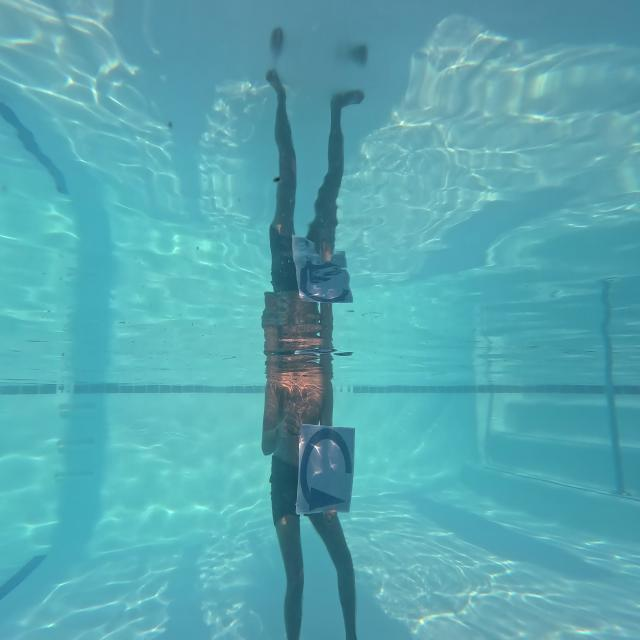blue_side: (294, 404, 358, 520)
